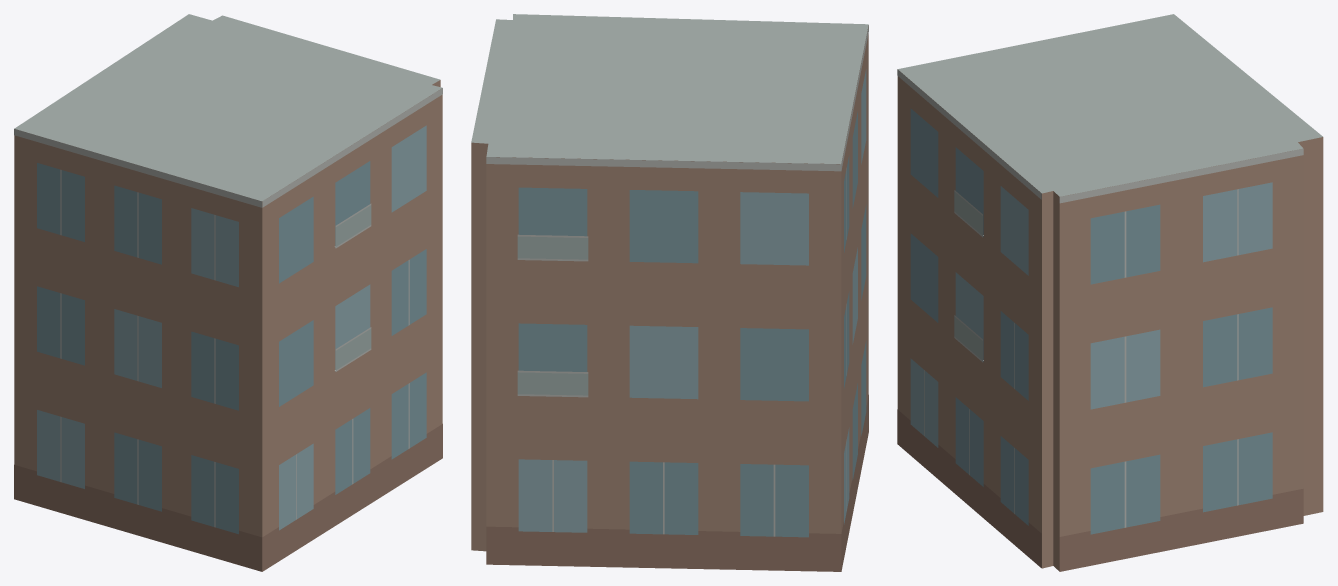
File: survey-upis-32811445.glb
The picture shows the model from 3 angles, left to right: view 1: azimuth 30°, elevation 25°; view 2: azimuth 150°, elevation 25°; view 3: azimuth 270°, elevation 25°; orthographic projection. The views are drawn at different scales.
Visible parts, largest first — view 1: survey-upis-32811445.tmp; view 2: survey-upis-32811445.tmp; view 3: survey-upis-32811445.tmp.
Part boxes in pixels (x1,y1,x2,y2): survey-upis-32811445.tmp: (14,14,442,571); survey-upis-32811445.tmp: (471,14,868,571); survey-upis-32811445.tmp: (897,14,1323,571).
Size of the model in its own units: 14.54 by 13.9 by 14.31.
